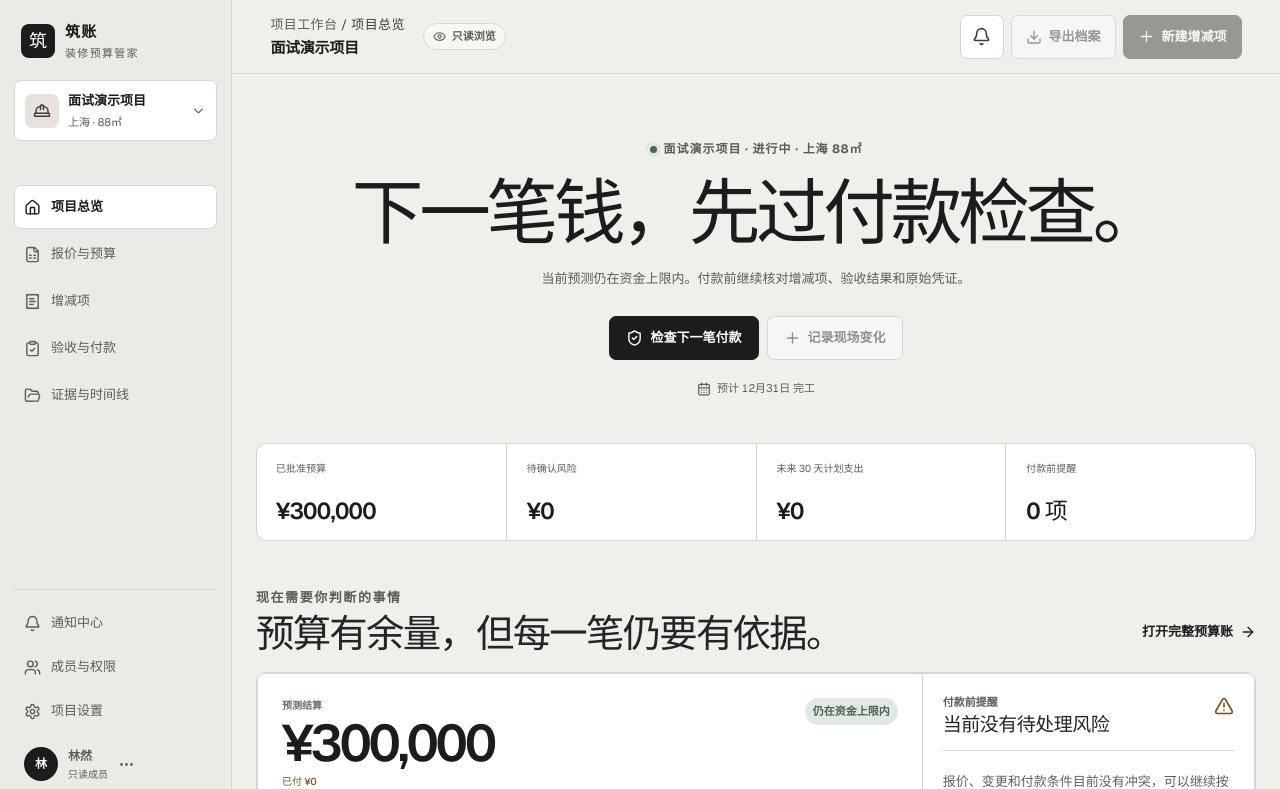
Test: workspace upload capability › keeps account read-only messaging separate when uploads are enabled
This screenshot has width=1280, height=789.
expect the heading named "下一笔钱，先过付款检查。" is shown: met, box [352,166,1160,259]
expect the text "只读浏览" is shown: met, box [423,23,506,50]
Click the button "报价与预算": (116, 254) [14,232,217,276]
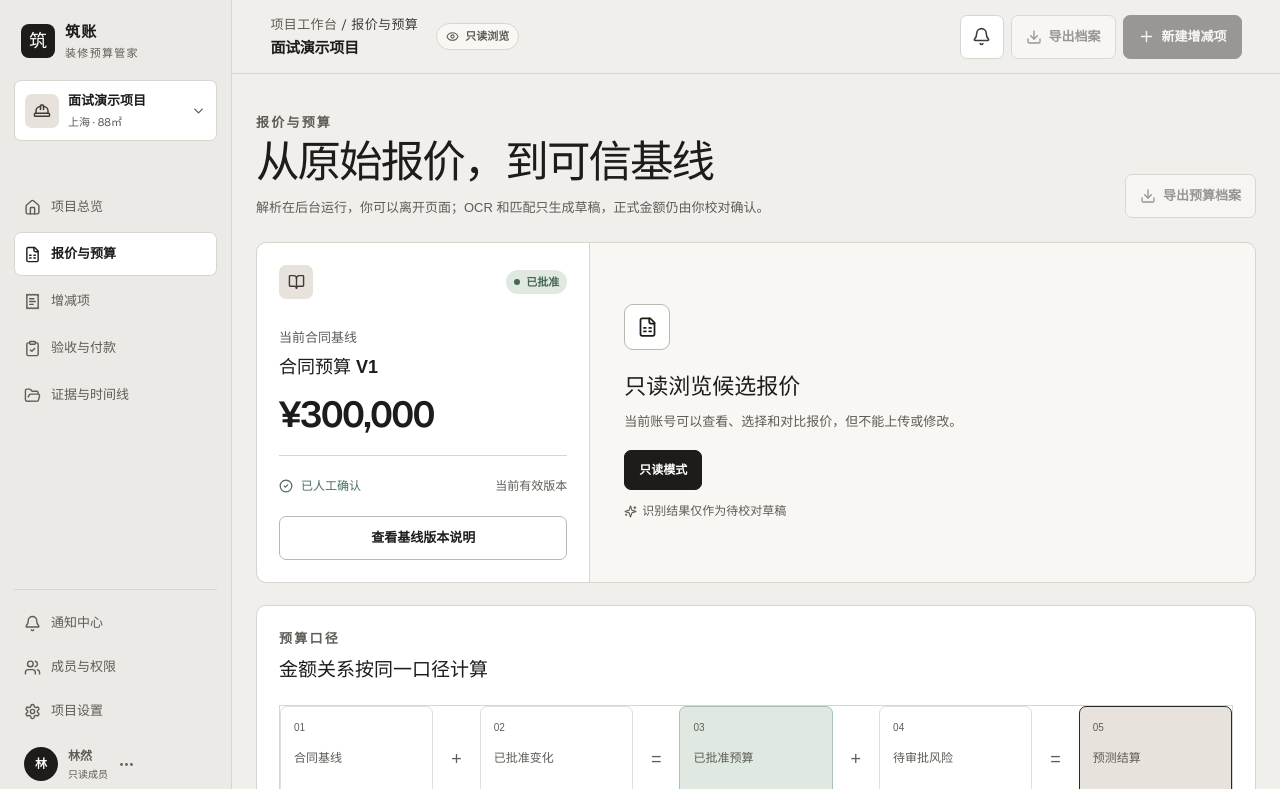
expect the heading "只读浏览候选报价" is shown: met, box [624,370,800,403]
expect the text "当前账号可以查看、选择和对比报价，但不能上传或修改。" is shown: met, box [624,411,962,433]
expect the file field named "导入候选报价文件" is disabled: met, box [590,243,1255,582]
